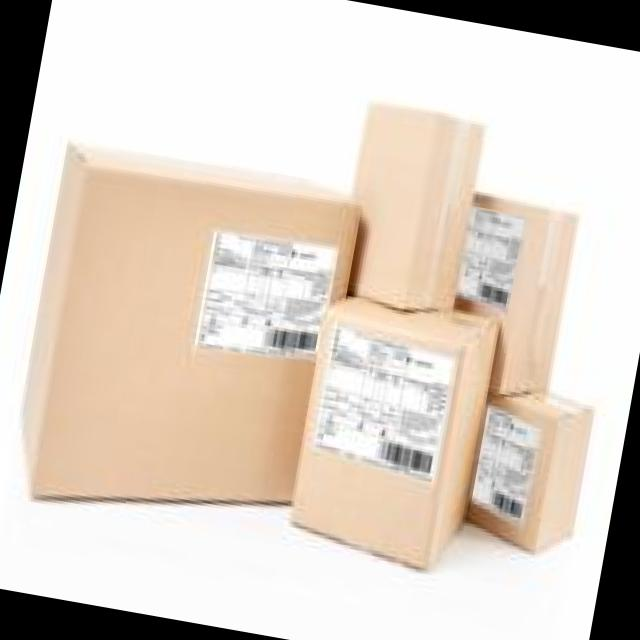box: (23, 142, 359, 506), (290, 299, 502, 571), (338, 99, 486, 317), (452, 188, 583, 397), (463, 387, 597, 558)
